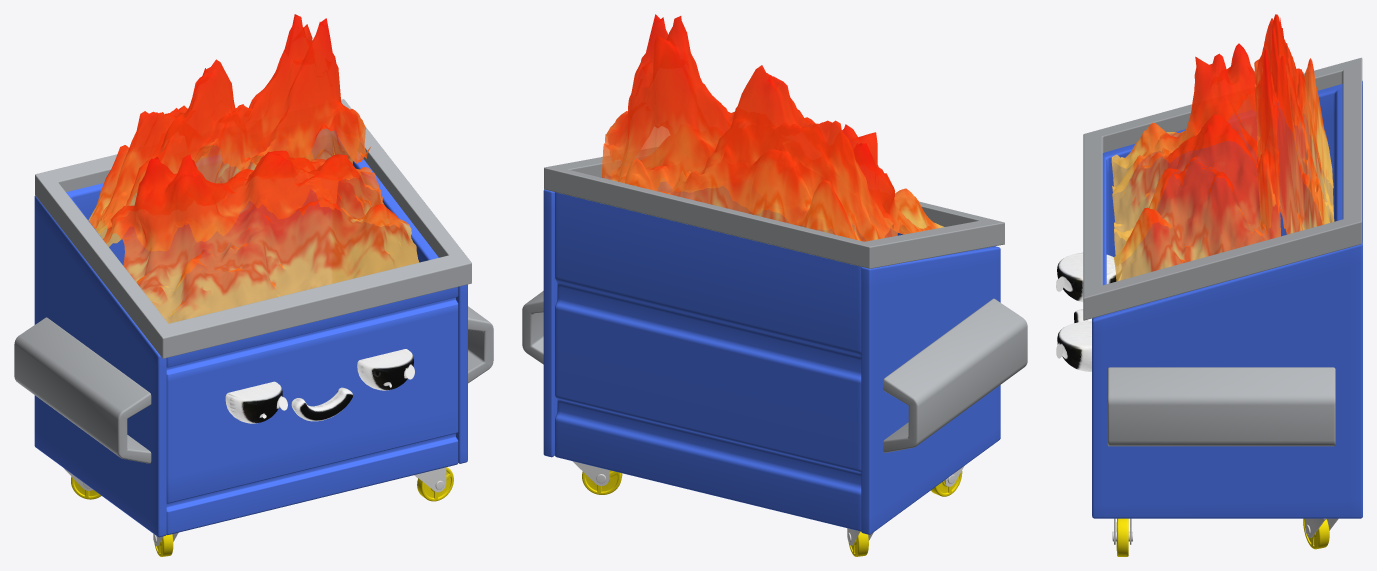
3 renders of one model, left to right at view 1: azimuth 30°, elevation 25°; view 2: azimuth 150°, elevation 25°; view 3: azimuth 270°, elevation 25°, orthographic. The views are drawn at different scales.
Visible parts, largest first — view 1: Dumpster Geometry, Small Fire.006, Fire Small Back.006, Wheel Holder; view 2: Dumpster Geometry, Fire Small Back.006, Small Fire.006, Wheel Holder; view 3: Dumpster Geometry, Small Fire.006, Fire Small Back.006, Wheel Holder.
Part boxes in pixels (x1,y1,x2,y2): Dumpster Geometry: (14,99,493,556); Small Fire.006: (103,150,419,323); Fire Small Back.006: (88,14,370,250); Wheel Holder: (64,467,446,546); Dumpster Geometry: (522,147,1027,556); Fire Small Back.006: (601,14,893,241); Small Fire.006: (611,124,944,240); Wheel Holder: (573,461,964,545); Dumpster Geometry: (1056,57,1362,556); Small Fire.006: (1111,43,1280,281); Fire Small Back.006: (1254,14,1334,234); Wheel Holder: (1112,518,1338,544).
Bounding box in the file's own units: 2.31 × 2.65 × 1.5.
Materials: 7 (3 with a texture image).
